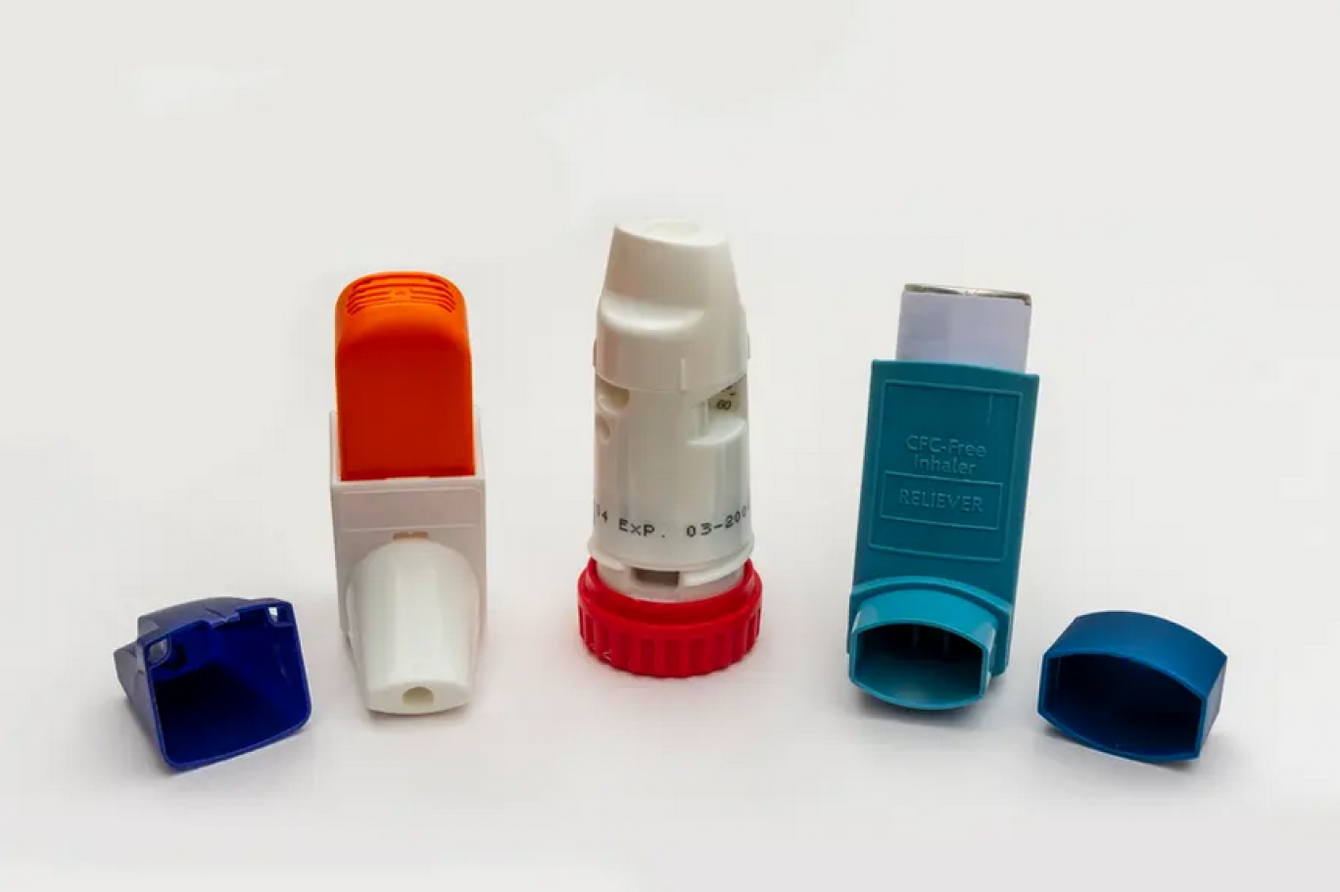Medicine: (272, 262, 531, 744), (561, 196, 766, 683), (838, 255, 1031, 751)
